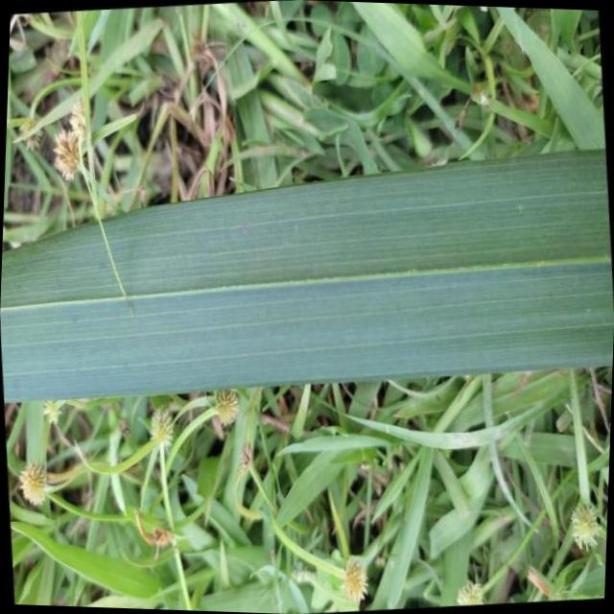Healthy: (0, 146, 614, 406)
